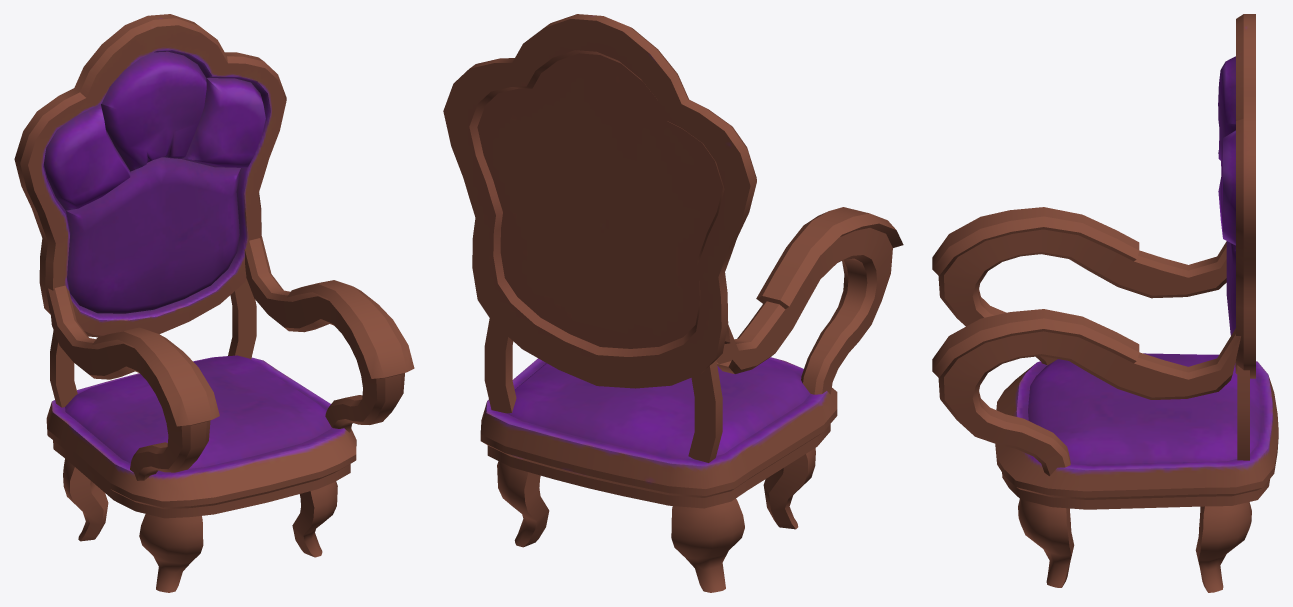
The model's file is Chair.fbx.
3 renders of one model, left to right at view 1: azimuth 30°, elevation 25°; view 2: azimuth 150°, elevation 25°; view 3: azimuth 270°, elevation 25°, orthographic. The views are drawn at different scales.
Parts seen in each view (by area): view 1: chairBack, Chair, armRest, armRest1, chairLeg, chairLeg1, chairLeg2, chairBackSet1, chairBackSet; view 2: chairBack, Chair, armRest, chairLeg1, chairBackSet, chairLeg3, chairBackSet1, chairLeg; view 3: Chair, armRest1, armRest, chairBack, chairLeg3, chairLeg2, chairBackSet1.
Part boxes in pixels (left/top/right/bottom): chairBack: left=14, top=14, right=286, bottom=337; Chair: left=46, top=355, right=356, bottom=518; armRest: left=48, top=285, right=219, bottom=480; armRest1: left=244, top=236, right=414, bottom=432; chairLeg: left=139, top=514, right=203, bottom=592; chairLeg1: left=63, top=458, right=108, bottom=541; chairLeg2: left=292, top=481, right=337, bottom=557; chairBackSet1: left=228, top=279, right=256, bottom=359; chairBackSet: left=50, top=330, right=77, bottom=407; chairBack: left=443, top=14, right=756, bottom=388; Chair: left=480, top=357, right=837, bottom=508; armRest: left=716, top=207, right=903, bottom=394; chairLeg1: left=671, top=498, right=744, bottom=592; chairBackSet: left=688, top=360, right=722, bottom=462; chairLeg3: left=497, top=461, right=549, bottom=547; chairBackSet1: left=484, top=318, right=516, bottom=413; chairLeg: left=763, top=448, right=815, bottom=529; Chair: left=995, top=353, right=1278, bottom=509; armRest1: left=932, top=309, right=1240, bottom=476; armRest: left=932, top=207, right=1226, bottom=365; chairBack: left=1218, top=14, right=1255, bottom=378; chairLeg3: left=1195, top=502, right=1251, bottom=592; chairLeg2: left=1018, top=499, right=1074, bottom=587; chairBackSet1: left=1237, top=365, right=1249, bottom=460.
Bounding box in the file's own units: 468 × 818 × 491.
Materials: 1 (1 with a texture image).
